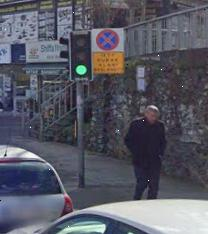greenlight: (69, 32, 93, 82)
